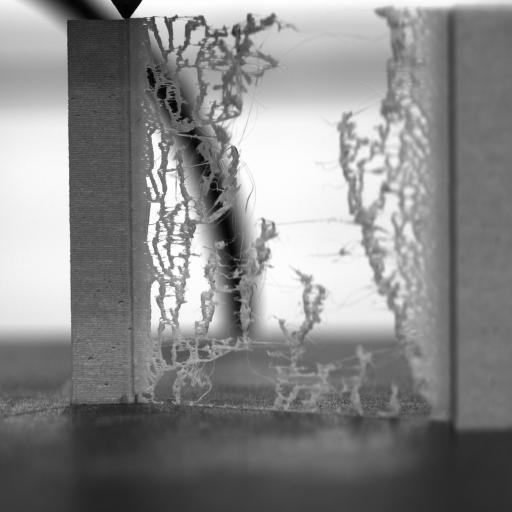spaghetti_and_stringing: (330, 5, 438, 414), (146, 151, 200, 395), (258, 256, 334, 410), (197, 210, 275, 360), (148, 15, 220, 150), (147, 312, 241, 404), (376, 8, 428, 152), (216, 12, 286, 106), (385, 88, 433, 214), (338, 106, 388, 226), (200, 142, 250, 229), (343, 344, 374, 418), (248, 215, 278, 277)
